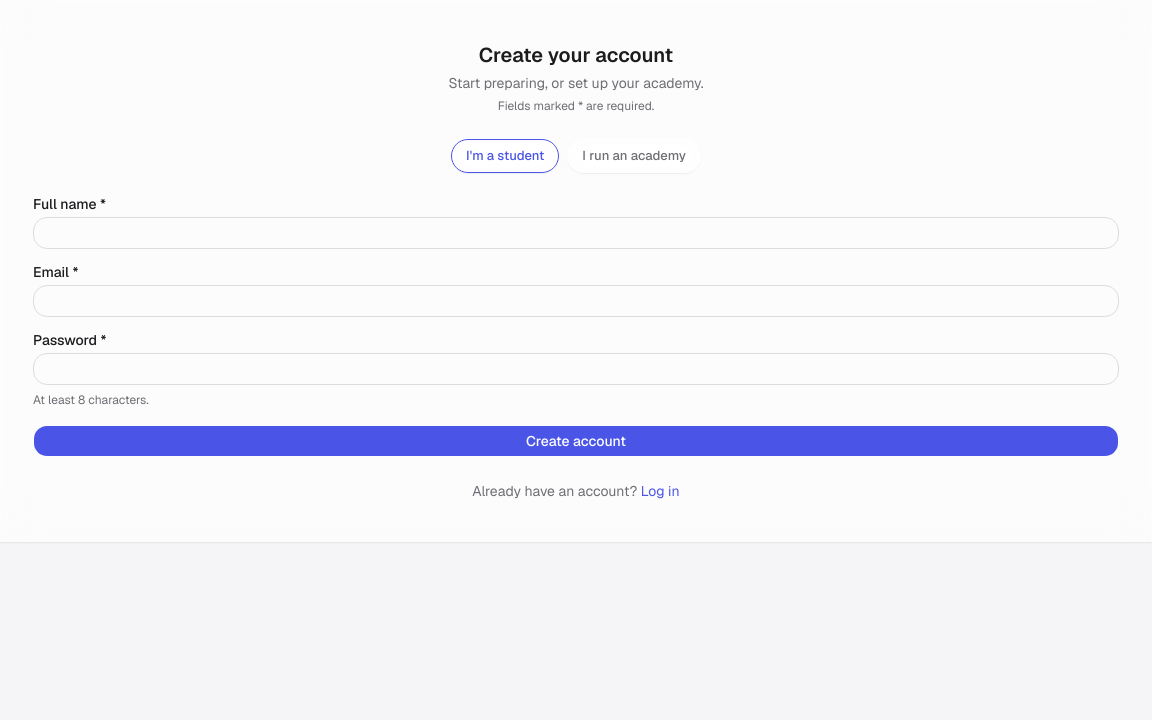
it: SignupForm: required fields and field-specific errors › flags every empty required field next to its input, focuses the first, and sends nothing
Click the button "Create account" at coordinates (576, 440), box [33,424,1119,456]
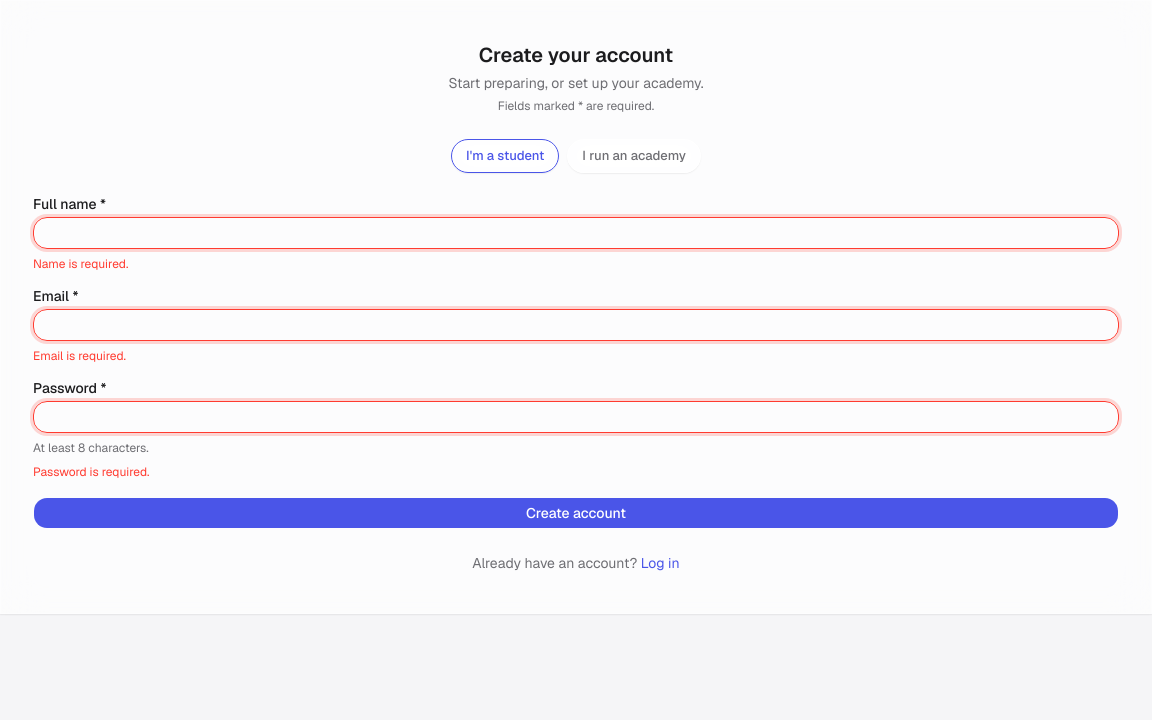
Expected: the text "Name is required." is shown, [33,256,128,272]
Expected: the text "Email is required." is shown, [33,348,126,364]
Expected: the text "Password is required." is shown, [33,464,149,480]
